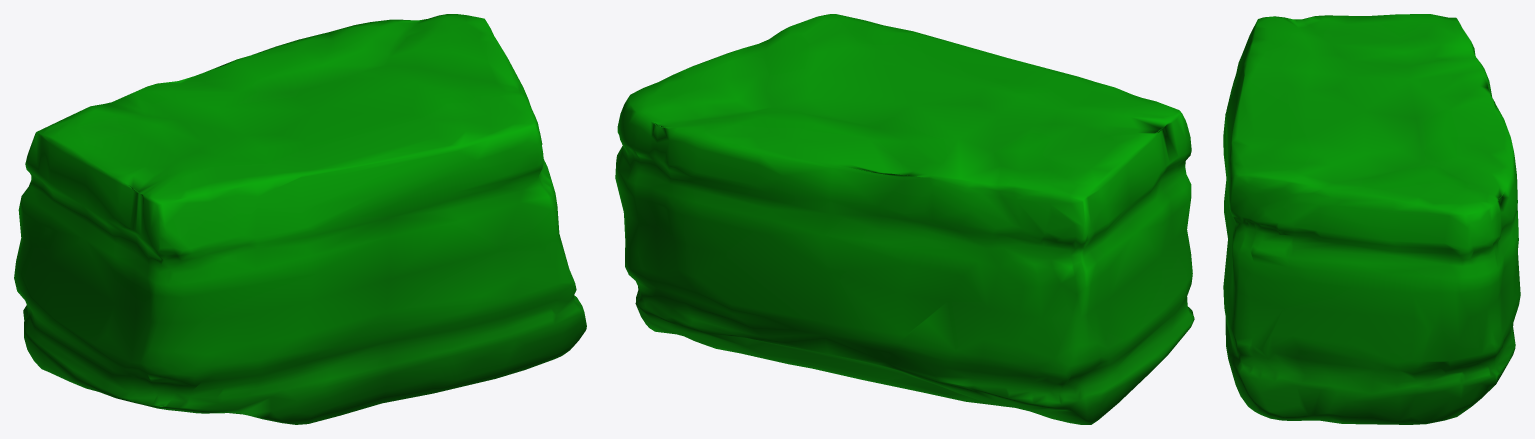
File: outcrop_b.glb
The picture shows the model from 3 angles, left to right: view 1: azimuth 30°, elevation 25°; view 2: azimuth 150°, elevation 25°; view 3: azimuth 270°, elevation 25°; orthographic projection. The views are drawn at different scales.
Visible parts, largest first — view 1: LOD0; view 2: LOD0; view 3: LOD0.
Part boxes in pixels (<box>): LOD0: <box>14,14,586,424</box>; LOD0: <box>615,14,1194,424</box>; LOD0: <box>1223,14,1520,424</box>.
Size of what is drawn, in the model's own units: 5.4 by 2.73 by 3.2.
